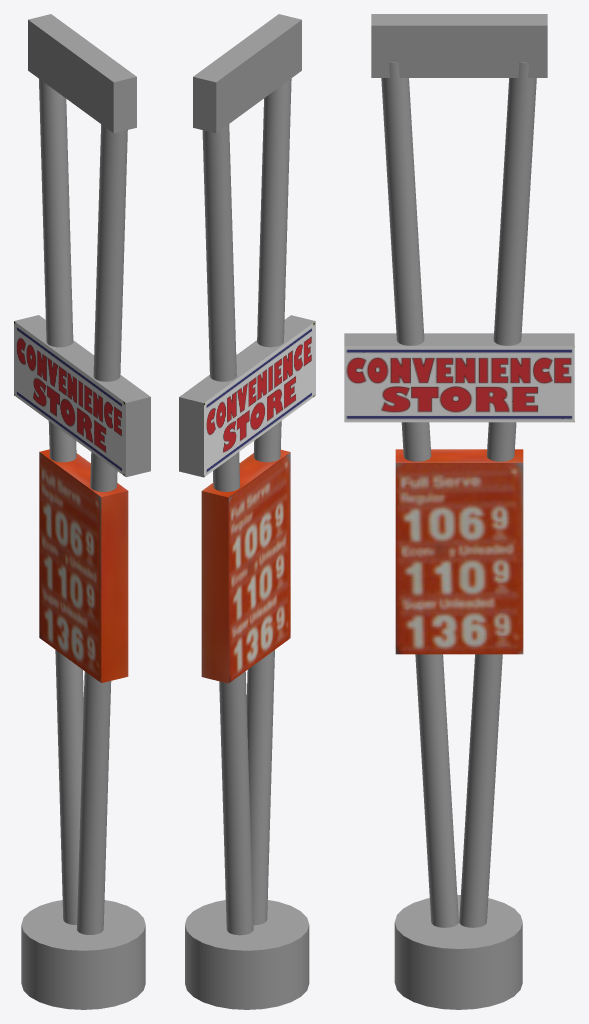
The model's file is GasStationSign.fbx.
The picture shows the model from 3 angles, left to right: view 1: azimuth 30°, elevation 25°; view 2: azimuth 150°, elevation 25°; view 3: azimuth 270°, elevation 25°; orthographic projection. The views are drawn at different scales.
Visible parts, largest first — view 1: GasStationSignPole2; view 2: GasStationSignPole2; view 3: GasStationSignPole2.
Part boxes in pixels (left/top/right/bottom): GasStationSignPole2: left=14, top=14, right=150, bottom=1009; GasStationSignPole2: left=179, top=14, right=315, bottom=1009; GasStationSignPole2: left=344, top=14, right=574, bottom=1009.
Size of the model in its own units: 5.08 by 42.13 by 9.14.
